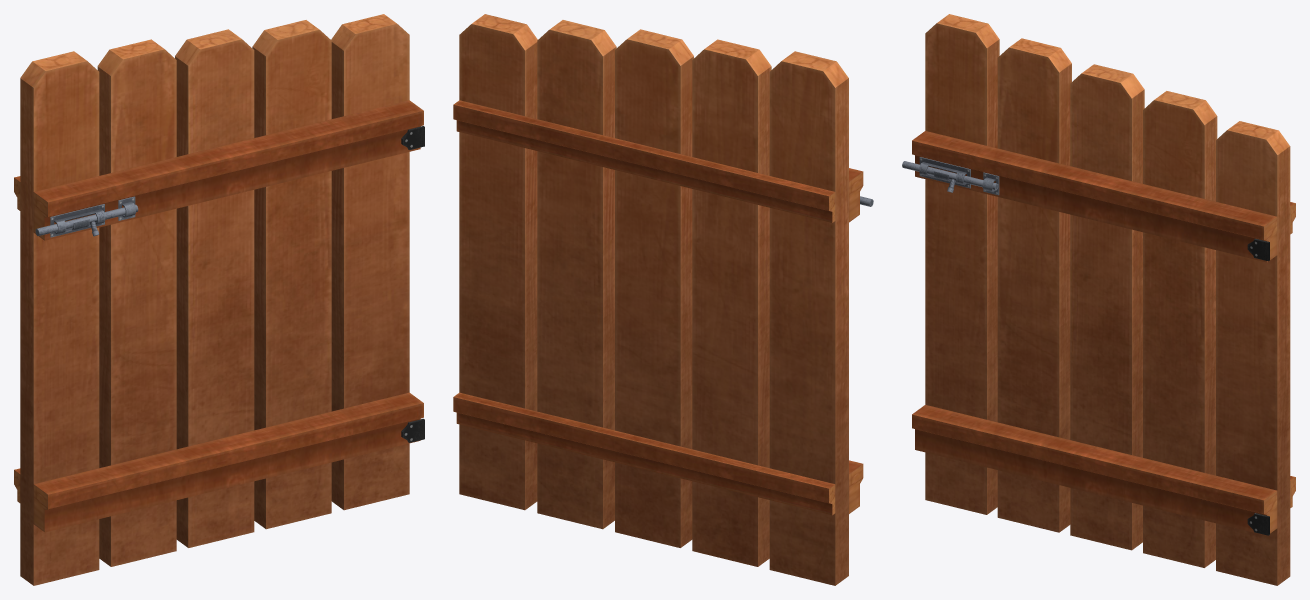
The model's file is Entrance 1 door right.fbx.
The picture shows the model from 3 angles, left to right: view 1: azimuth 30°, elevation 25°; view 2: azimuth 150°, elevation 25°; view 3: azimuth 330°, elevation 25°; orthographic projection. The views are drawn at different scales.
Parts seen in each view (by area): view 1: Fence1_Gate_Right, Fence1_Latch; view 2: Fence1_Gate_Right; view 3: Fence1_Gate_Right, Fence1_Latch.
Part boxes in pixels (left/top/right/bottom): Fence1_Gate_Right: left=14, top=14, right=424, bottom=585; Fence1_Latch: left=35, top=204, right=138, bottom=236; Fence1_Gate_Right: left=453, top=14, right=863, bottom=585; Fence1_Gate_Right: left=912, top=14, right=1295, bottom=585; Fence1_Latch: left=902, top=161, right=998, bottom=192.
Size of the model in its own units: 88.38 by 111 by 15.42.
